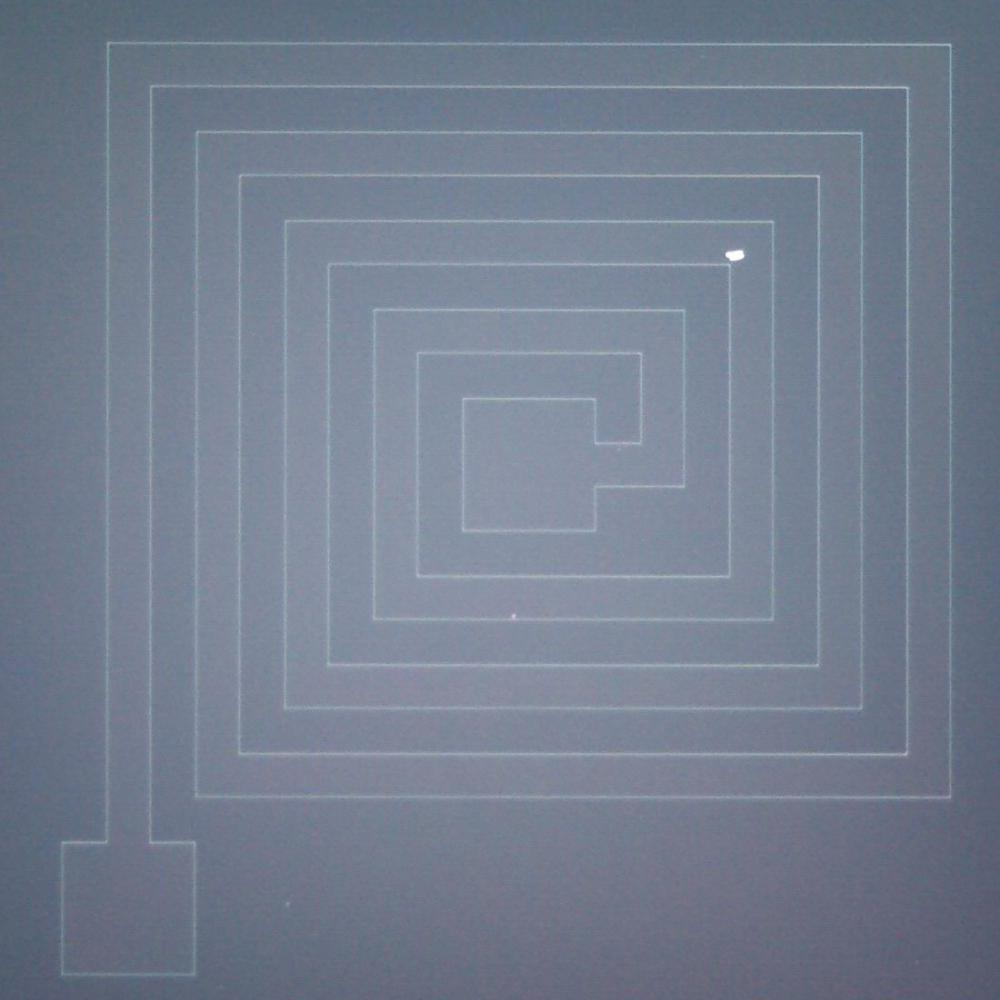spot: (720, 240, 755, 270)
